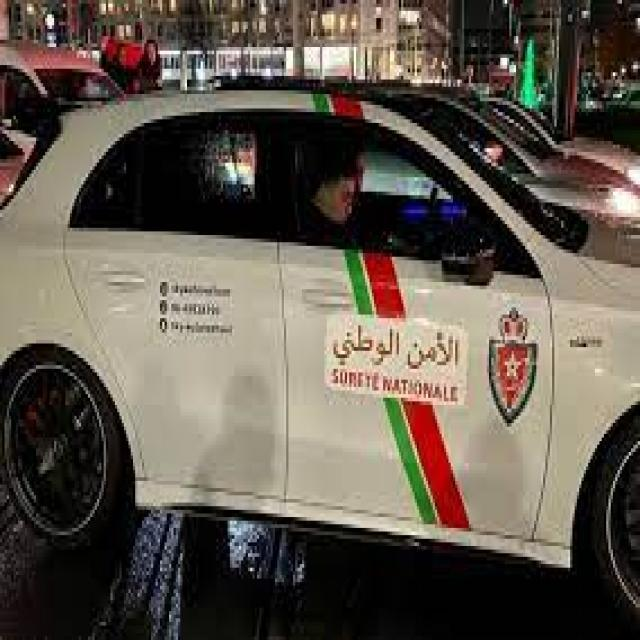police: (0, 76, 640, 636)
